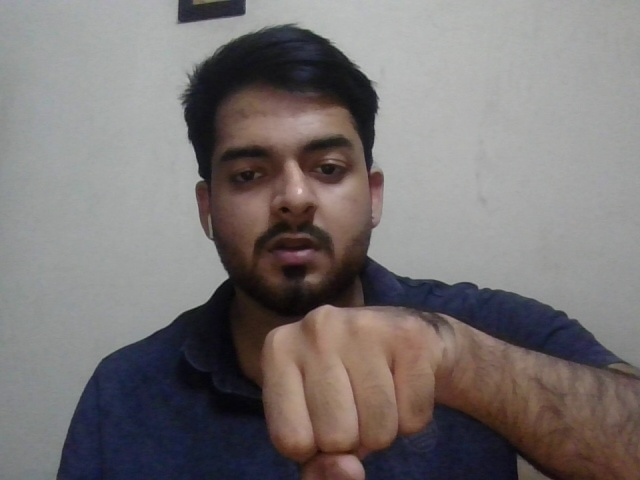yes: (261, 299, 437, 480)
